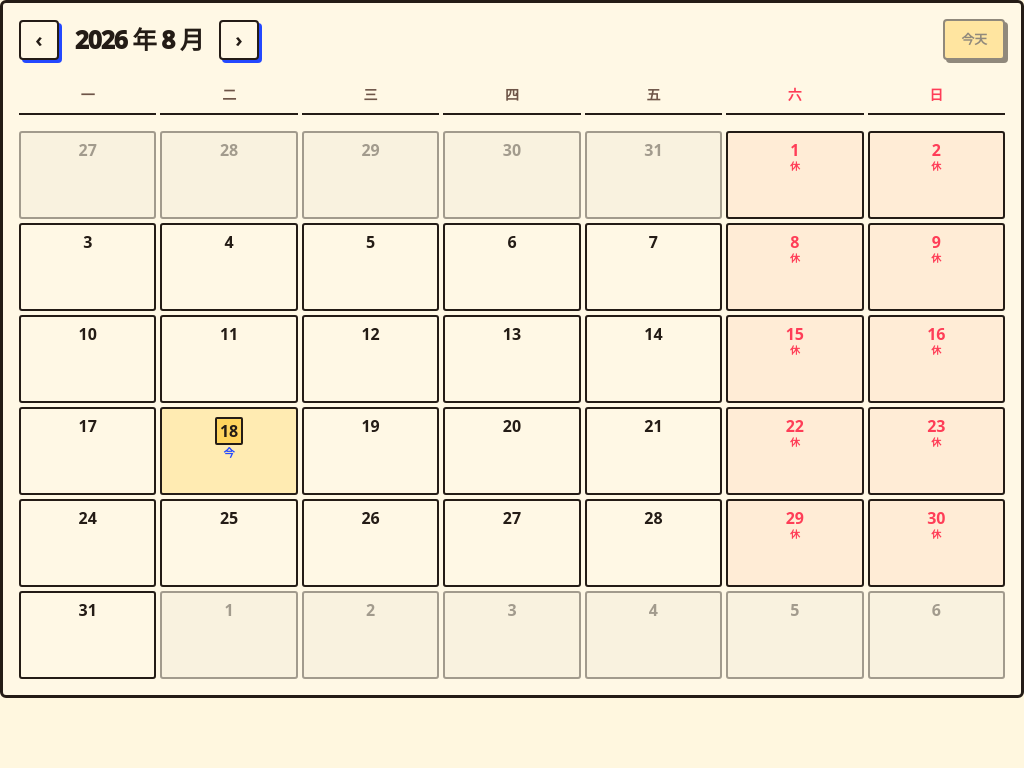
Test case: TaskCalendar › moves to the previous month
Click the button named "上一个月" at coordinates (39, 40), box [19,20,59,60]
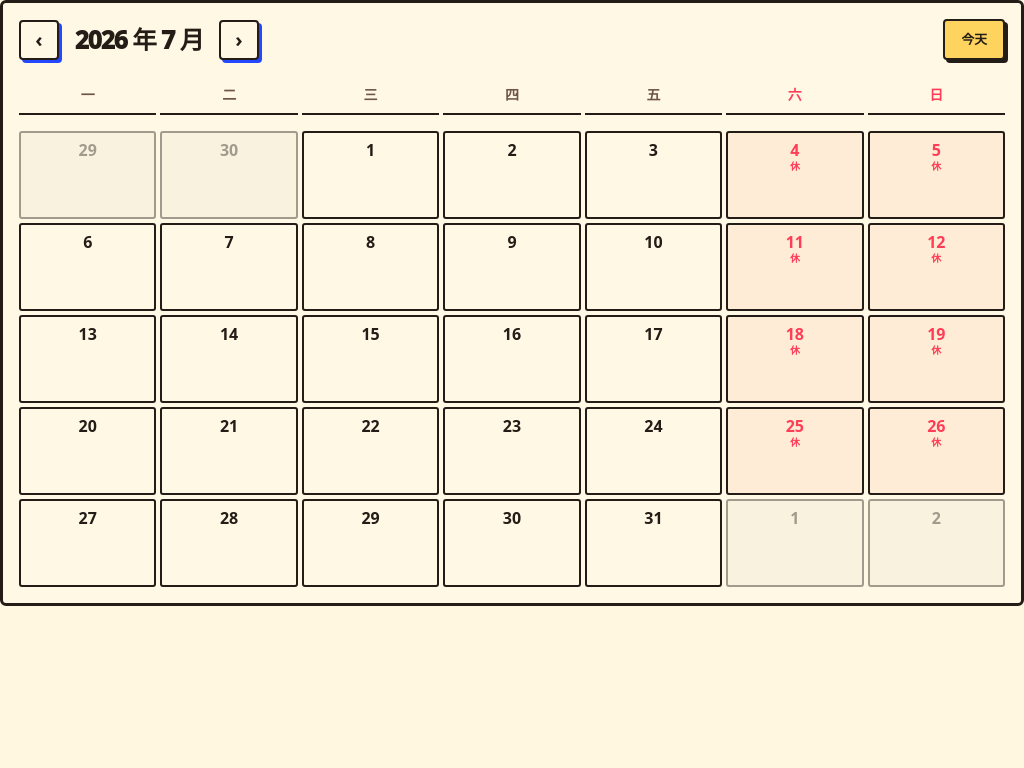
Result: the heading "2026 年 7 月" is shown at [71,28,207,51]
